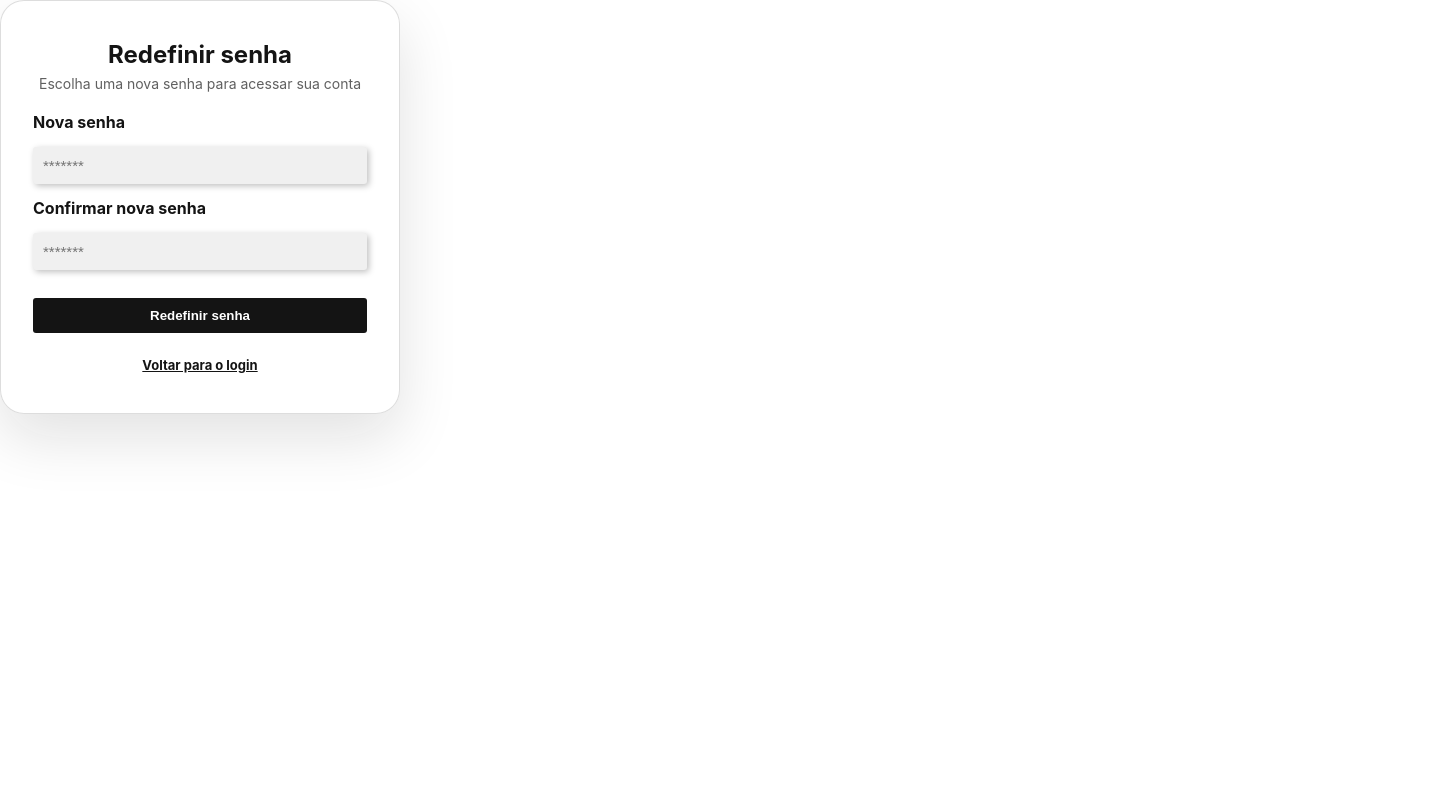
Test case: waits for success acknowledgement before redirecting to login
The image size is (1440, 810).
Type "nova-senha" into the 1st password field with placeholder "*******".
click(200, 165); type("nova-senha")  # box x1=33 y1=147 x2=367 y2=184
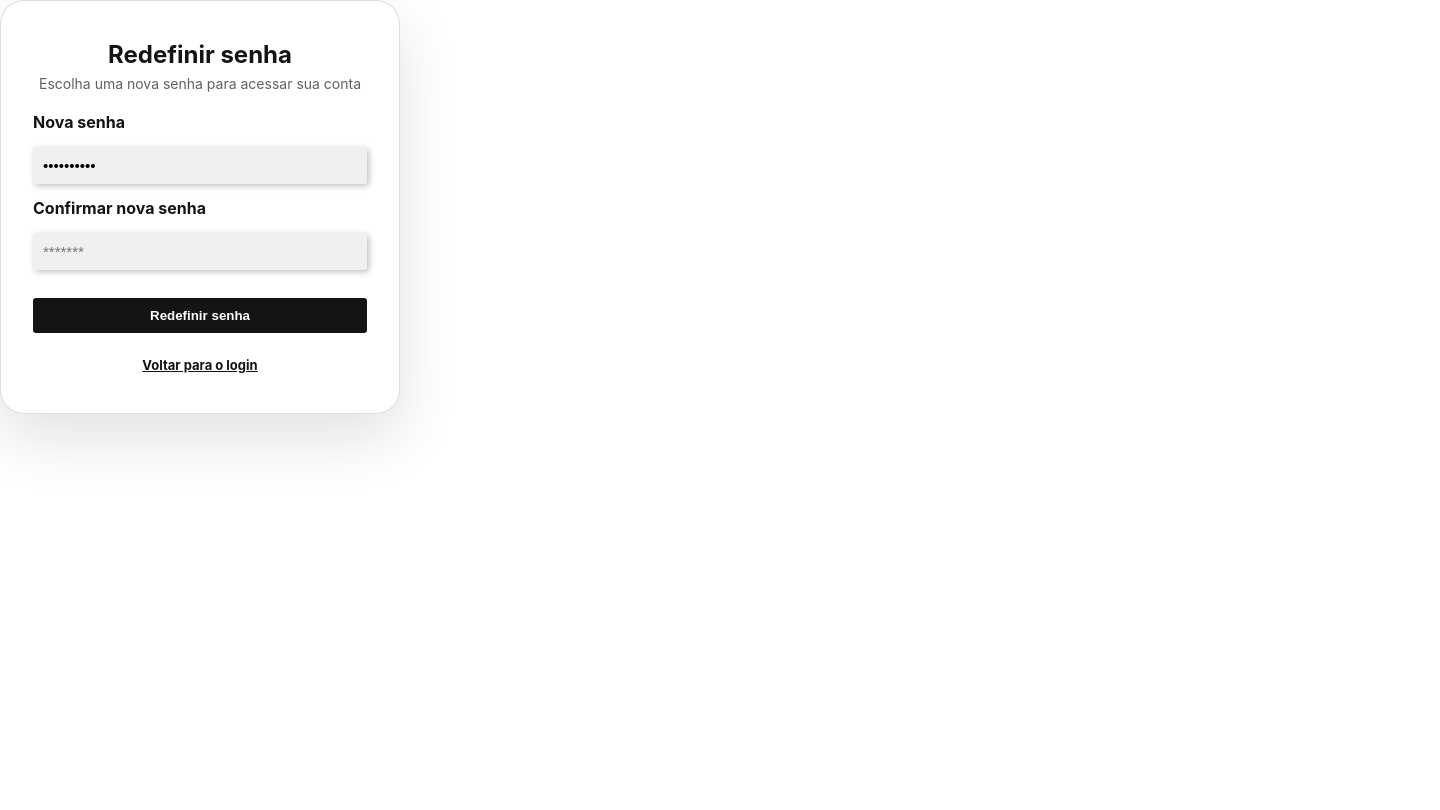
Type "nova-senha" into the password field with placeholder "*******".
click(200, 251); type("nova-senha")  # box x1=33 y1=233 x2=367 y2=270
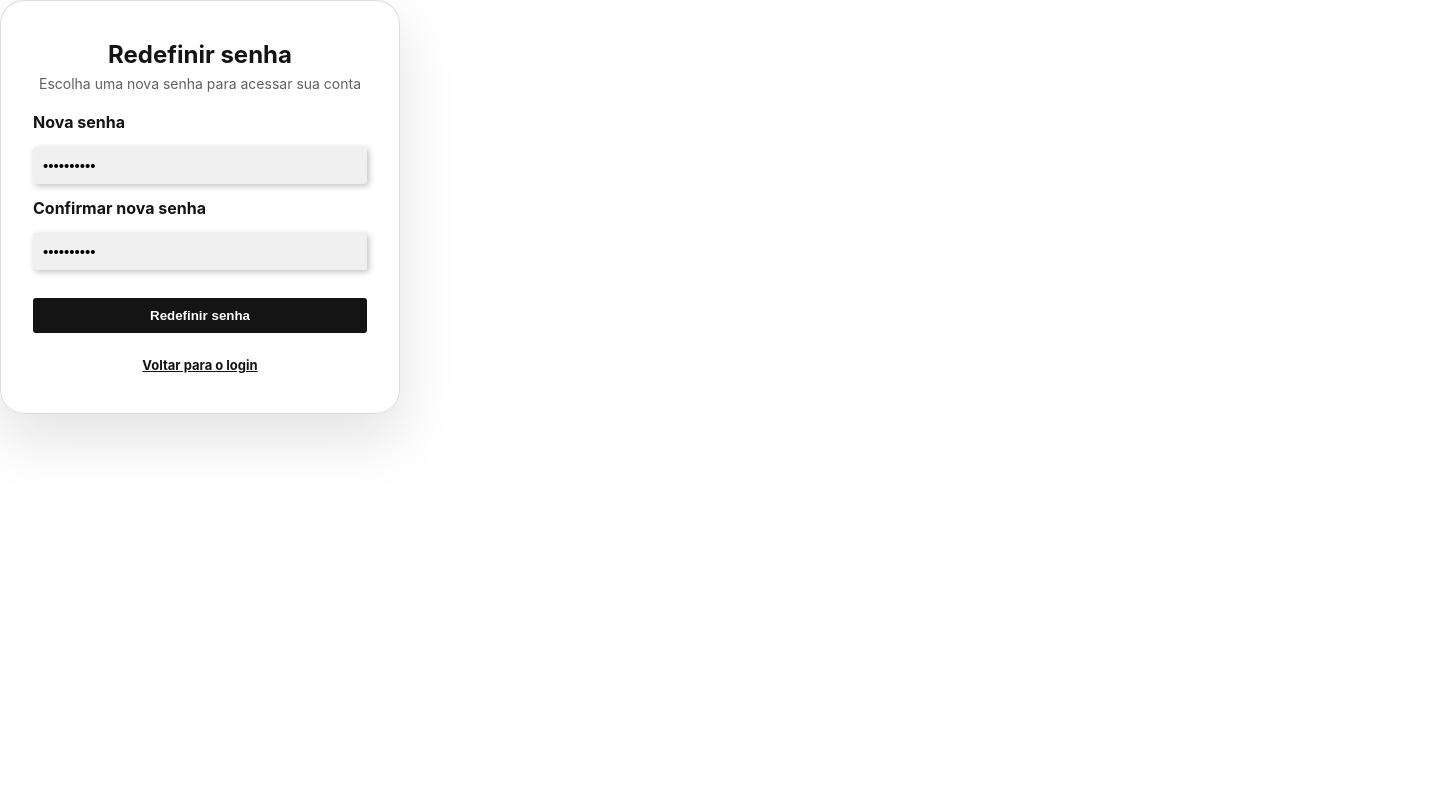
Click the button "Redefinir senha".
click(200, 315)  # box x1=33 y1=298 x2=367 y2=333
Wait 10000 ms
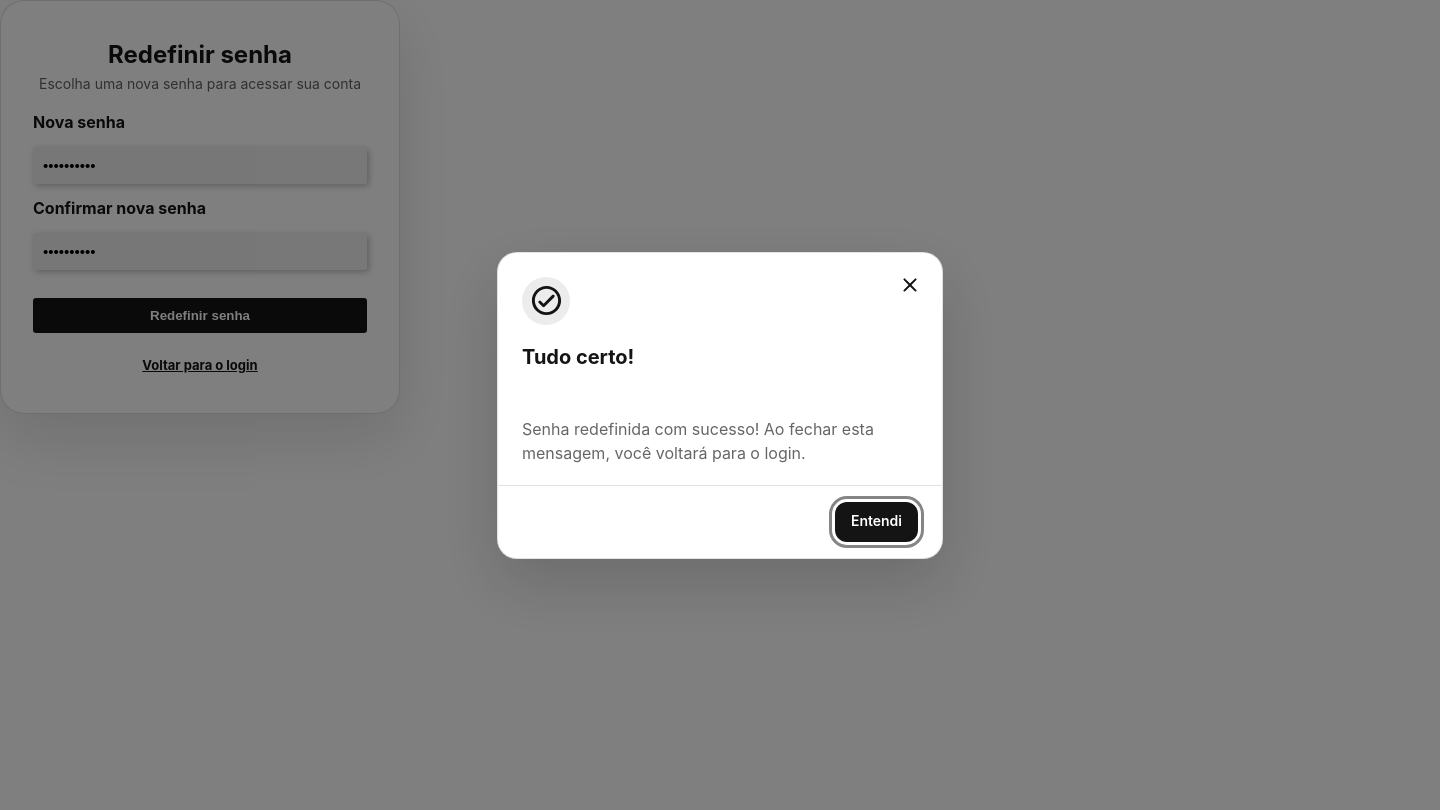
expect the text "Tela de login" is not shown: met
expect the dialog "Tudo certo!" shows "Senha redefinida com sucesso!": met, box x1=522 y1=418 x2=878 y2=462
Click the button "Entendi".
click(876, 522)  # box x1=835 y1=502 x2=918 y2=542
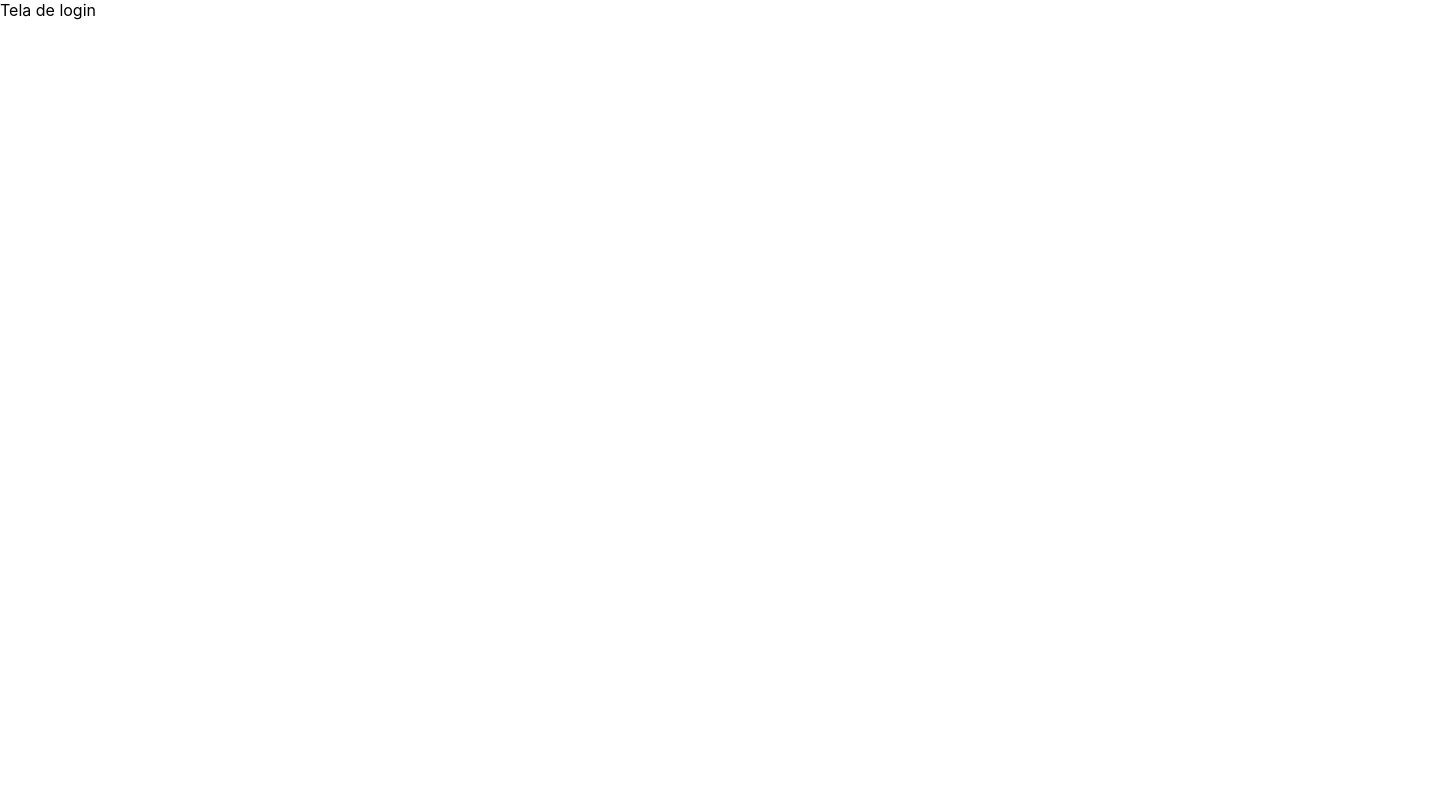
expect the text "Tela de login" is shown: met, box x1=0 y1=0 x2=96 y2=20
expect the dialog is gone: met
